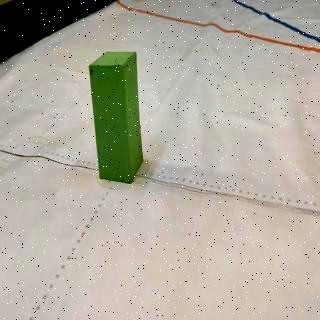greenbox: (88, 51, 145, 183)
